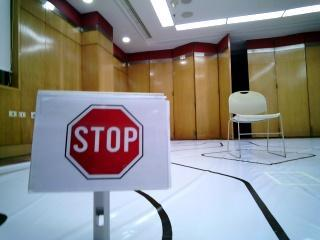stop: (38, 92, 159, 190)
